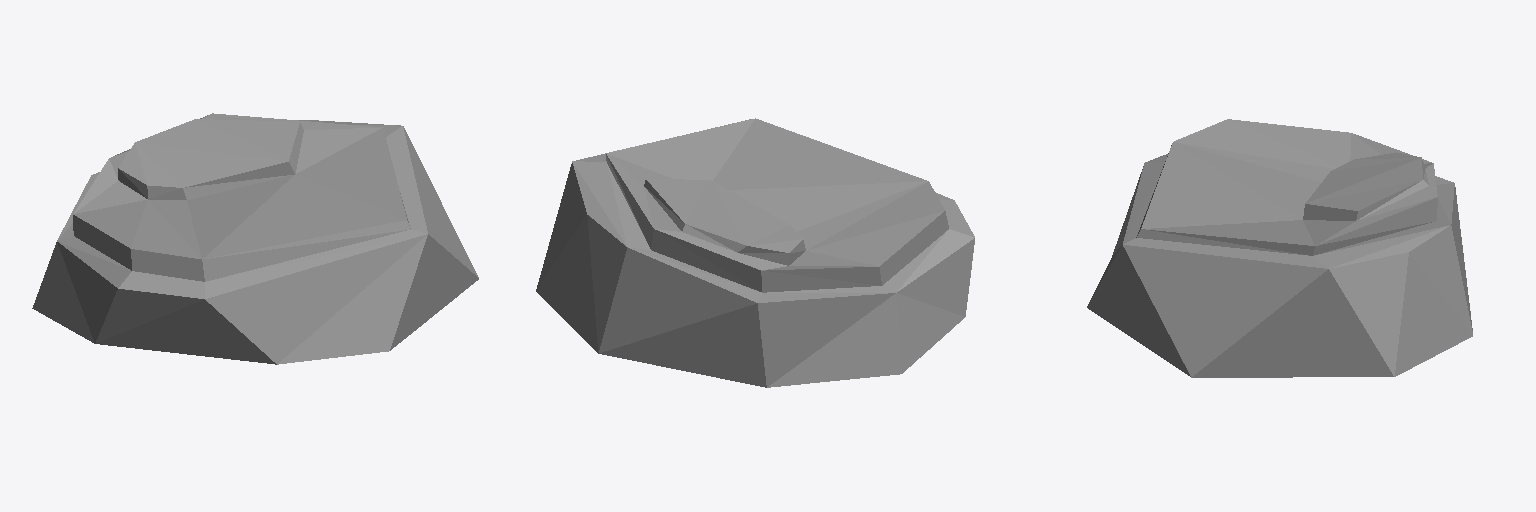
Rendered from Low_Poly_Cuboid_Rock_005.obj.
3 views of the same model, side by side, from view 1: azimuth 30°, elevation 25°; view 2: azimuth 150°, elevation 25°; view 3: azimuth 270°, elevation 25° (orthographic).
Parts seen in each view (by area): view 1: Low_Poly_Cuboid_Rock_005_Cube; view 2: Low_Poly_Cuboid_Rock_005_Cube; view 3: Low_Poly_Cuboid_Rock_005_Cube.
Part boxes in pixels (bbox=[...]): Low_Poly_Cuboid_Rock_005_Cube: bbox=[32, 113, 478, 364]; Low_Poly_Cuboid_Rock_005_Cube: bbox=[536, 118, 974, 387]; Low_Poly_Cuboid_Rock_005_Cube: bbox=[1087, 119, 1472, 377].
Size of the model in its own units: 3.28 by 1.49 by 3.07.